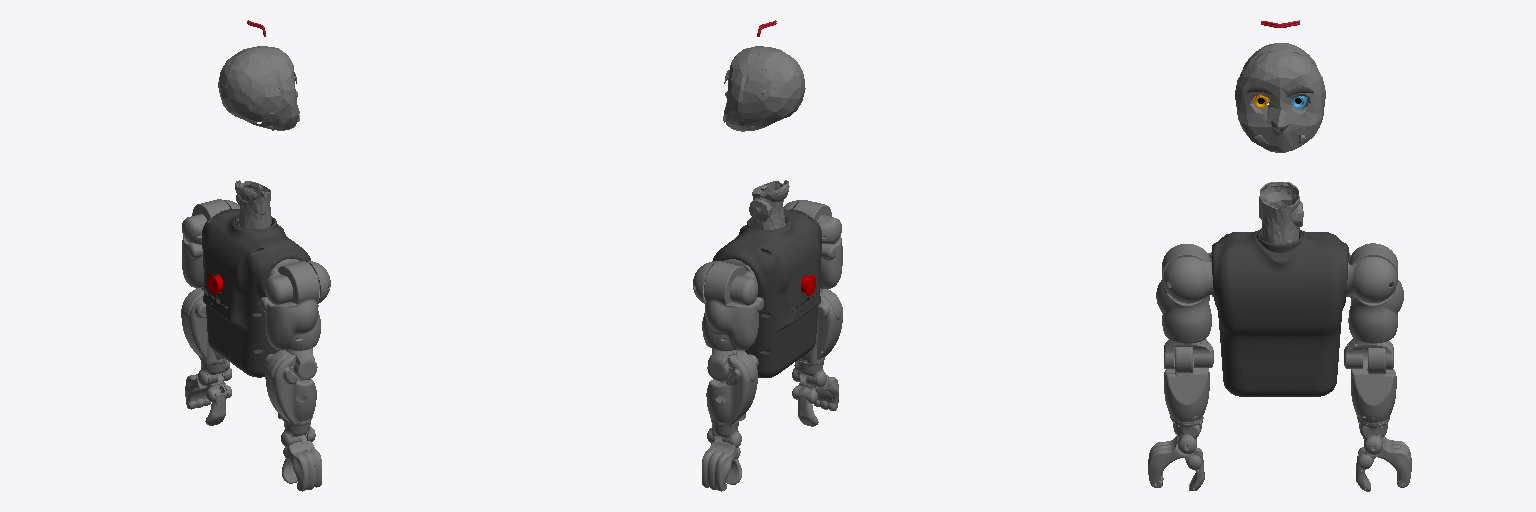
--- What the picture shows (computed from the rendered views, not written in the file) ---
Views: 3 orthographic renders of the robot side by side, from view 1: azimuth 30°, elevation 25°; view 2: azimuth 150°, elevation 25°; view 3: azimuth 270°, elevation 25°.
Model bandit with 26 links and 25 joints (20 revolute, 5 fixed), rooted at torso_link, posed every joint at zero.
Visible links, largest first — view 1: torso_link, head_tilt_link, right_shoulder_link, right_forearm_link, left_forearm_link, head_pan_link, right_hand_link, left_shoulder_link, right_shoulder_mounting_link, left_hand_link, left_shoulder_mounting_link, right_bicep_link (+3 smaller); view 2: torso_link, head_tilt_link, left_shoulder_link, left_forearm_link, right_forearm_link, head_pan_link, right_shoulder_link, left_hand_link, left_shoulder_mounting_link, right_hand_link, right_shoulder_mounting_link, right_wrist_link (+3 smaller); view 3: torso_link, head_tilt_link, right_shoulder_link, left_shoulder_link, left_forearm_link, right_forearm_link, head_pan_link, right_shoulder_mounting_link, left_shoulder_mounting_link, right_hand_link, left_hand_link, right_bicep_link (+3 smaller).
Link boxes in pixels (x1,y1,x2,y2): torso_link: (202, 209, 310, 377); head_tilt_link: (218, 46, 299, 130); right_shoulder_link: (259, 261, 320, 350); right_forearm_link: (265, 350, 316, 423); left_forearm_link: (181, 288, 225, 363); head_pan_link: (235, 180, 271, 228); right_hand_link: (283, 436, 321, 491); left_shoulder_link: (182, 199, 229, 287); right_shoulder_mounting_link: (265, 259, 330, 304); left_hand_link: (185, 373, 231, 409); left_shoulder_mounting_link: (182, 200, 239, 244); right_bicep_link: (286, 348, 317, 379); torso_link: (712, 209, 821, 377); head_tilt_link: (723, 46, 805, 131); left_shoulder_link: (702, 261, 763, 350); left_forearm_link: (706, 350, 758, 425); right_forearm_link: (798, 289, 842, 364); head_pan_link: (749, 180, 789, 229); right_shoulder_link: (794, 200, 842, 288); left_hand_link: (702, 431, 740, 491); left_shoulder_mounting_link: (693, 259, 757, 305); right_hand_link: (792, 375, 838, 410); right_shoulder_mounting_link: (783, 200, 841, 243); right_wrist_link: (792, 359, 826, 386); torso_link: (1212, 229, 1348, 396); head_tilt_link: (1235, 43, 1325, 152); right_shoulder_link: (1156, 244, 1211, 343); left_shoulder_link: (1348, 243, 1403, 343); left_forearm_link: (1351, 348, 1396, 424); right_forearm_link: (1164, 339, 1209, 423); head_pan_link: (1259, 182, 1303, 243); right_shoulder_mounting_link: (1163, 252, 1213, 303); left_shoulder_mounting_link: (1346, 253, 1397, 303); right_hand_link: (1148, 436, 1201, 487); left_hand_link: (1358, 436, 1411, 487); right_bicep_link: (1164, 339, 1213, 368).
Bounding box of the posed robot: 0.1883 × 0.4538 × 0.8942 m (x, y, z).
Meshes: 24 distinct files referenced, 26 mesh visuals loaded (24 binary STL).

URDF robot description (bandit):
<?xml version="1.0" ?>
<!-- =================================================================================== -->
<!-- |    This document was autogenerated by xacro from [local-path]/interaction/groovy_workspace/stacks/usc-interaction-software/bandit/bandit_urdf/urdf/bandit_defs.urdf.xacro | -->
<!-- |    EDITING THIS FILE BY HAND IS NOT RECOMMENDED                                 | -->
<!-- =================================================================================== -->
<robot name="bandit" xmlns:controller="http://playerstage.sourceforge.net/gazebo/xmlschema/#controller" xmlns:interface="http://playerstage.sourceforge.net/gazebo/xmlschema/#interface" xmlns:sensor="http://playerstage.sourceforge.net/gazebo/xmlschema/#sensor" xmlns:xacro="http://ros.org/wiki/xacro">
  <!-- uncomment the below line for the bandit_shirt materials -->
  <!--  <include filename="$(find bandit_urdf)/defs/shirt_materials.xacro"/>-->
  <!-- use the below line for the regular bandit materials -->
  <material name="Red">
    <color rgba="0.8 0.0 0.0 1.0"/>
  </material>
  <material name="Blue">
    <color rgba="0.0 0.0 0.8 1.0"/>
  </material>
  <material name="Green">
    <color rgba="0.0 0.8 0.0 1.0"/>
  </material>
  <material name="Yellow">
    <color rgba="0.75 0.75 0.0 1.0"/>
  </material>
  <material name="Black">
    <color rgba="0 0 0 1.0"/>
  </material>
  <material name="White">
    <color rgba="1.0 1.0 1.0 1.0"/>
  </material>
  <material name="Head">
    <color rgba="0.5 0.5 0.5 1.0"/>
  </material>
  <material name="Eyebrows">
    <color rgba="0.35 0.35 0.35 1.0"/>
  </material>
  <material name="Pupil">
    <color rgba="0 0 0 1"/>
  </material>
  <material name="Lips">
    <color rgba="0.737 0.118 0.193 1.0"/>
  </material>
  <material name="Neck">
    <color rgba="0.5 0.5 0.5 1.0"/>
  </material>
  <material name="Torso">
    <color rgba="0.3 0.3 0.3 1.0"/>
  </material>
  <material name="Arms">
    <color rgba="0.5 0.5 0.5 1.0"/>
  </material>
  <material name="Wrist">
    <color rgba="0.5 0.5 0.5 1.0"/>
  </material>
  <material name="Hands">
    <color rgba="0.5 0.5 0.5 1.0"/>
  </material>
  <material name="SweaterRed">
    <color rgba="0.45 0.0 0.0 1.0"/>
  </material>
  <joint name="pupil_left_joint" type="fixed">
    <origin rpy="0 0 0" xyz="0.0012 -0.0048 -0.032"/>
    <parent link="eye_left_camera_link"/>
    <child link="pupil_left_link"/>
  </joint>
  <link name="pupil_left_link">
    <inertial>
      <mass value="0.01"/>
      <origin xyz="0 0 0"/>
      <inertia ixx="1" ixy="0" ixz="0" iyy="1" iyz="0" izz="1"/>
    </inertial>
    <visual name="pupil_visual">
      <origin rpy="0 0 0" xyz="0 0 0"/>
      <geometry name="pupil_left_geom">
        <mesh filename="package://bandit_urdf/meshes/bandit_mesh/middle_eye.stl"/>
      </geometry>
      <material name="Pupil">
        <color rgba="0 0 0 1"/>
      </material>
    </visual>
    <collision>
      <origin rpy="0 0 0" xyz="0 0 0"/>
      <geometry>
        <box size="0 0 0"/>
      </geometry>
    </collision>
  </link>
  <joint name="pupil_right_joint" type="fixed">
    <origin rpy="0 0 0" xyz="0.0012 -0.0046 -0.032"/>
    <parent link="eye_right_camera_link"/>
    <child link="pupil_right_link"/>
  </joint>
  <link name="pupil_right_link">
    <inertial>
      <mass value="0.01"/>
      <origin xyz="0 0 0"/>
      <inertia ixx="1" ixy="0" ixz="0" iyy="1" iyz="0" izz="1"/>
    </inertial>
    <visual name="pupil_visual">
      <origin rpy="0 0 0" xyz="0 0 0"/>
      <geometry name="pupil_left_geom">
        <mesh filename="package://bandit_urdf/meshes/bandit_mesh/middle_eye.stl"/>
      </geometry>
      <material name="Pupil">
        <color rgba="0 0 0 1"/>
      </material>
    </visual>
    <collision>
      <origin rpy="0 0 0" xyz="0 0 0"/>
      <geometry>
        <box size="0 0 0"/>
      </geometry>
    </collision>
  </link>
  <!-- use the below line for gazebo includes -->
  <!--<include filename="$(find bandit_urdf)/urdf/gazebo.urdf.xacro"/>-->
  <!-- use the below line for pr2 includes -->
  <!--<xacro:pr2_base_v0 name="base"/>-->
  <link name="torso_link">
    <inertial>
      <mass value="0.01"/>
      <origin xyz="0 0 0"/>
      <inertia ixx="1" ixy="0" ixz="0" iyy="1" iyz="0" izz="1"/>
    </inertial>
    <visual name="torso_visual">
      <material name="Torso"/>
      <origin rpy="1.57079632679 0 1.57079632679" xyz="0 0 0.0"/>
      <geometry name="torso_geom">
        <mesh filename="package://bandit_urdf/meshes/bandit_mesh/body_small.stl"/>
      </geometry>
    </visual>
    <collision>
      <origin rpy="0 0 0" xyz="0 0 -0.067"/>
      <geometry>
        <box size="0.152 0.228 0.282"/>
      </geometry>
    </collision>
  </link>
  <link name="stop_link">
    <inertial>
      <mass value="0.01"/>
      <origin xyz="0 0 0"/>
      <inertia ixx="1" ixy="0" ixz="0" iyy="1" iyz="0" izz="1"/>
    </inertial>
    <visual name="base_visual">
      <origin rpy="0 1.57079632679 3.14159265359" xyz="0 0 0"/>
      <geometry name="pioneer_geom">
        <mesh filename="package://bandit_urdf/meshes/bandit_mesh/stop_switch_small.STL"/>
      </geometry>
      <material name="Red"/>
    </visual>
    <collision>
      <origin rpy="0 0 0" xyz="0 0 0"/>
      <geometry>
        <box size="0 0 0"/>
      </geometry>
    </collision>
  </link>
  <joint name="stop_joint" type="fixed">
    <origin rpy="0 0 0" xyz="-0.08 0 -0.04"/>
    <parent link="torso_link"/>
    <child link="stop_link"/>
  </joint>
  <joint name="head_pan_joint" type="revolute">
    <axis xyz="0 0 1"/>
    <origin xyz="0 0 0.1105"/>
    <parent link="torso_link"/>
    <child link="head_pan_link"/>
    <limit effort="2.645" lower="-1.57079633" upper="1.57079633" velocity="6"/>
    <safety_controller k_position="100" k_velocity="1.5" soft_lower_limit="-1.42079633" soft_upper_limit="1.42079633"/>
    <calibration reference_position="0.0"/>
    <dynamics damping="1.0"/>
  </joint>
  <link name="head_pan_link">
    <inertial>
      <origin rpy="183.928 0 -90" xyz="-0.05 0 -0.101"/>
      <mass value="0.01"/>
      <inertia ixx="0.00482611007" ixy="-0.000144683999" ixz="0.000110076136" iyy="0.005218991412" iyz="-0.000314239509" izz="0.008618784925"/>
    </inertial>
    <visual name="head_pan_visual">
      <origin rpy="1.5696 0 -1.5696" xyz="0 0 0"/>
      <geometry name="head_pan_visual_geom">
        <mesh filename="package://bandit_urdf/meshes/bandit_mesh/neck_smallest.stl"/>
      </geometry>
      <material name="Neck"/>
    </visual>
    <collision name="head_pan_collision">
      <origin rpy="1.5696 0 1.5696" xyz="0 0 0"/>
      <geometry name="head_pan_visual_geom">
        <box size="0 0 0"/>
      </geometry>
    </collision>
  </link>
  <joint name="head_tilt_joint" type="revolute">
    <axis xyz="0 -1 0.0375"/>
    <limit effort="2.645" lower="-0.261799388" upper="0.261799388" velocity="6"/>
    <safety_controller k_position="100" k_velocity="1.5" soft_lower_limit="-1.42079633" soft_upper_limit="1.42079633"/>
    <calibration reference_position="0.0"/>
    <dynamics damping="1.0"/>
    <origin rpy="0 0 0" xyz="0 0 0.18135"/>
    <parent link="head_pan_link"/>
    <child link="head_tilt_link"/>
  </joint>
  <link name="head_tilt_link">
    <inertial>
      <mass value="0.01"/>
      <origin rpy="1.5696 0 1.5696" xyz="0 0 0"/>
      <inertia ixx="0.00482611007" ixy="-0.000144683999" ixz="0.000110076136" iyy="0.005218991412" iyz="-0.000314239509" izz="0.008618784925"/>
    </inertial>
    <visual name="head_tilt_visual">
      <origin rpy="1.5696 0 1.5696" xyz="-.02 0 .01"/>
      <geometry name="head_tilt_visual_geom">
        <mesh filename="package://bandit_urdf/meshes/bandit_mesh/head_smallest.stl"/>
      </geometry>
      <material name="Head"/>
    </visual>
    <collision name="head_tilt_collision">
      <origin rpy="0 0 0 " xyz="0.008 0 0.055"/>
      <geometry name="head_tilt_visual_geom">
        <box size="0.147 0.156 0.16"/>
      </geometry>
    </collision>
  </link>
  <joint name="mouth_top_joint" type="revolute">
    <axis xyz="0 -1 0"/>
    <limit effort="2.645" lower="-0.261799388" upper="0.261799388" velocity="6"/>
    <safety_controller k_position="100" k_velocity="1.5" soft_lower_limit="-1.42079633" soft_upper_limit="1.42079633"/>
    <calibration reference_position="0.0"/>
    <dynamics damping="1.0"/>
    <origin rpy="0 0 0" xyz="0 0 0.18135"/>
    <parent link="head_tilt_link"/>
    <child link="mouth_top_link"/>
  </joint>
  <link name="mouth_top_link">
    <inertial>
      <mass value="0.01"/>
      <origin rpy="0 0 1.5696" xyz="0 0 0"/>
      <inertia ixx="0.00482611007" ixy="-0.000144683999" ixz="0.000110076136" iyy="0.005218991412" iyz="-0.000314239509" izz="0.008618784925"/>
    </inertial>
    <visual name="mouth_top_visual">
      <origin rpy="0 0 -1.5696" xyz="0 0 .002"/>
      <geometry name="mouth_top_visual_geom">
        <mesh filename="package://bandit_urdf/meshes/bandit_mesh/top_lip_small.STL"/>
      </geometry>
      <material name="Lips"/>
    </visual>
    <collision name="mouth_top_collision">
      <origin rpy="0 0 0 " xyz="0 0 0"/>
      <geometry name="mouth_top_visual_geom">
        <box size="0 0 0"/>
      </geometry>
    </collision>
  </link>
  <joint name="mouth_bottom_joint" type="revolute">
    <axis xyz="0 -1 0"/>
    <limit effort="2.645" lower="-0.261799388" upper="0.261799388" velocity="6"/>
    <safety_controller k_position="100" k_velocity="1.5" soft_lower_limit="-1.42079633" soft_upper_limit="1.42079633"/>
    <calibration reference_position="0.0"/>
    <dynamics damping="1.0"/>
    <origin rpy="0 0 0" xyz="0 0 0.18135"/>
    <parent link="head_tilt_link"/>
    <child link="mouth_bottom_link"/>
  </joint>
  <link name="mouth_bottom_link">
    <inertial>
      <mass value="0.01"/>
      <origin rpy="1.5696 0 1.5696" xyz="0 0 0"/>
      <inertia ixx="0.00482611007" ixy="-0.000144683999" ixz="0.000110076136" iyy="0.005218991412" iyz="-0.000314239509" izz="0.008618784925"/>
    </inertial>
    <visual name="mouth_bottom_visual">
      <origin rpy="0 0 -1.5696" xyz="0 0 -0.002"/>
      <geometry name="mouth_bottom_visual_geom">
        <mesh filename="package://bandit_urdf/meshes/bandit_mesh/bottom_lip_small.STL"/>
      </geometry>
      <material name="Lips"/>
    </visual>
    <collision name="mouth_bottom_collision">
      <origin rpy="0 0 0 " xyz="0 0 0"/>
      <geometry name="mouth_bottom_visual_geom">
        <box size="0 0 0"/>
      </geometry>
    </collision>
  </link>
  <joint name="eye_right_camera_joint" type="fixed">
    <origin rpy="-1.57079632679 -0.3 -1.57079632679" xyz="0.05 -0.0320 .060"/>
    <parent link="head_tilt_link"/>
    <child link="eye_right_camera_link"/>
  </joint>
  <link name="eye_right_camera_link">
    <inertial>
      <mass value="0.01"/>
      <origin rpy="1.5696 0 1.5696" xyz="0 0 0"/>
      <inertia ixx="0.00482611007" ixy="-0.000144683999" ixz="0.000110076136" iyy="0.005218991412" iyz="-0.000314239509" izz="0.008618784925"/>
    </inertial>
    <visual name="eye_right_camera_visual">
      <origin rpy="1.5696 0 -1.5696" xyz="0.035 0 0"/>
      <geometry name="eye_right_camera_visual_geom">
        <mesh filename="package://bandit_urdf/meshes/bandit_mesh/camera_board.stl"/>
      </geometry>
      <material name="texture">
        <texture filename="package://bandit_urdf/meshes/bandit_mesh/gradients/reflect1.jpg"/>
      </material>
    </visual>
    <collision name="eye_right_camera_collision">
      <origin rpy="0 0 0 " xyz="0 0 0"/>
      <geometry name="eye_right_camera_visual_geom">
        <box size="0 0 0"/>
      </geometry>
    </collision>
  </link>
  <joint name="eye_left_camera_joint" type="fixed">
    <origin rpy="-1.57079632679 0 -1.57079632679" xyz="0.05 0.0320 .060"/>
    <parent link="head_tilt_link"/>
    <child link="eye_left_camera_link"/>
  </joint>
  <link name="eye_left_camera_link">
    <inertial>
      <mass value="0.01"/>
      <origin rpy="1.5696 0 1.5696" xyz="0 0 0"/>
      <inertia ixx="0.00482611007" ixy="-0.000144683999" ixz="0.000110076136" iyy="0.005218991412" iyz="-0.000314239509" izz="0.008618784925"/>
    </inertial>
    <visual name="eye_left_camera_visual">
      <origin rpy="1.5696 0 -1.5696" xyz="0.035 0 0"/>
      <geometry name="eye_left_camera_visual_geom">
        <mesh filename="package://bandit_urdf/meshes/bandit_mesh/camera_board.stl"/>
      </geometry>
      <material name="texture">
        <texture filename="package://bandit_urdf/meshes/bandit_mesh/gradients/reflect1.jpg"/>
      </material>
    </visual>
    <collision name="eye_left_camera_collision">
      <origin rpy="0 0 0 " xyz="0 0 0"/>
      <geometry name="eye_left_camera_visual_geom">
        <box size="0 0 0"/>
      </geometry>
    </collision>
  </link>
  <joint name="head_left_brow_joint" type="revolute">
    <axis xyz="0 1 0"/>
    <limit effort="2.645" lower="-0.261799388" upper="0.261799388" velocity="6"/>
    <safety_controller k_position="100" k_velocity="1.5" soft_lower_limit="-1.42079633" soft_upper_limit="1.42079633"/>
    <calibration reference_position="0.0"/>
    <dynamics damping="1.0"/>
    <origin rpy="-1.57079632679 -1.57079632679 0" xyz="0.06 0.0470 .085"/>
    <parent link="head_tilt_link"/>
    <child link="head_left_brow_link"/>
  </joint>
  <link name="head_left_brow_link">
    <inertial>
      <mass value="0.01"/>
      <origin rpy="1.5696 0 1.5696" xyz="0 0 0"/>
      <inertia ixx="0.00482611007" ixy="-0.000144683999" ixz="0.000110076136" iyy="0.005218991412" iyz="-0.000314239509" izz="0.008618784925"/>
    </inertial>
    <visual name="head_left_brow_visual">
      <origin rpy="0 0 -1.5696" xyz="0 0 0"/>
      <geometry name="head_left_brow_visual_geom">
        <mesh filename="package://bandit_urdf/meshes/bandit_mesh/eyebrow_left_small.stl"/>
      </geometry>
      <material name="Eyebrows"/>
    </visual>
    <collision name="head_left_brow_collision">
      <origin rpy="0 0 0 " xyz="0 0 0"/>
      <geometry name="head_left_brow_visual_geom">
        <box size="0 0 0"/>
      </geometry>
    </collision>
  </link>
  <joint name="head_right_brow_joint" type="revolute">
    <axis xyz="0 -1 0"/>
    <limit effort="2.645" lower="-0.261799388" upper="0.261799388" velocity="6"/>
    <safety_controller k_position="100" k_velocity="1.5" soft_lower_limit="-1.42079633" soft_upper_limit="1.42079633"/>
    <calibration reference_position="0.0"/>
    <dynamics damping="1.0"/>
    <origin rpy="-1.57079632679 -1.57079632679 0" xyz="0.06 -0.0470 .085"/>
    <parent link="head_tilt_link"/>
    <child link="head_right_brow_link"/>
  </joint>
  <link name="head_right_brow_link">
    <inertial>
      <mass value="0.01"/>
      <origin rpy="1.5696 0 1.5696" xyz="0 0 0"/>
      <inertia ixx="0.00482611007" ixy="-0.000144683999" ixz="0.000110076136" iyy="0.005218991412" iyz="-0.000314239509" izz="0.008618784925"/>
    </inertial>
    <visual name="head_right_brow_visual">
      <origin rpy="0 0 -1.5696" xyz="0 0 0"/>
      <geometry name="head_right_brow_visual_geom">
        <mesh filename="package://bandit_urdf/meshes/bandit_mesh/eyebrow_right_small.stl"/>
      </geometry>
      <material name="Eyebrows"/>
    </visual>
    <collision name="head_right_brow_collision">
      <origin rpy="0 0 0 " xyz="0 0 0"/>
      <geometry name="head_right_brow_visual_geom">
        <box size="0 0 0"/>
      </geometry>
    </collision>
  </link>
  <joint name="left_torso_shoulder_mounting_joint" type="revolute">
    <axis xyz="0 -1 0"/>
    <origin rpy="0 0 0" xyz="0 0.16 0"/>
    <parent link="torso_link"/>
    <child link="left_shoulder_mounting_link"/>
    <limit effort="30" lower="-3.14159265359" upper="3.14159265359" velocity="6"/>
    <dynamics damping="1.0"/>
    <calibration reference_position="0.0"/>
    <safety_controller k_position="100" k_velocity="10" soft_lower_limit="-3.14159265359" soft_upper_limit="3.14159265359"/>
  </joint>
  <link name="left_shoulder_mounting_link">
    <inertial>
      <origin rpy="3.14159265359 0 0" xyz="-0.035 0.131 0.168"/>
      <mass value="0.01"/>
      <inertia ixx="0.866179142480" ixy="-0.06086507933" ixz="-0.12118061183" iyy="0.87421714893" iyz="-0.05886609911" izz="0.27353821674"/>
    </inertial>
    <visual name="left_shoulder_mounting_link_visual">
      <origin rpy="1.5696 0 1.5696" xyz="0 0 0"/>
      <geometry name="left_shoulder_mounting_link_geom">
        <mesh filename="package://bandit_urdf/meshes/bandit_mesh/shoulder_cover_left_small.stl"/>
      </geometry>
      <material name="Arms"/>
    </visual>
    <collision name="left_shoulder_mounting_link_collision">
      <origin rpy="1.5696 0 1.5696" xyz="0 0 -0.05"/>
      <geometry name="left_shoulder_mounting_link_geom">
        <box size="0.105 0.175 0.081"/>
      </geometry>
    </collision>
  </link>
  <joint name="left_shoulder_mounting_shoulder_joint" type="revolute">
    <origin xyz="0 0.0 0"/>
    <axis xyz="1 0 0"/>
    <parent link="left_shoulder_mounting_link"/>
    <child link="left_shoulder_link"/>
    <limit effort="30" lower="-0.34906585" upper="3.14159265359" velocity="6"/>
    <dynamics damping="1.0"/>
    <calibration reference_position="0.0"/>
    <safety_controller k_position="100" k_velocity="10" soft_lower_limit="-0.34906585" soft_upper_limit="3.14159265359"/>
  </joint>
  <link name="left_shoulder_link">
    <inertial>
      <origin rpy="0 3.1392 0" xyz="-0.030 -0. -0"/>
      <mass value="0.01"/>
      <inertia ixx="0.866179142480" ixy="-0.06086507933" ixz="-0.12118061183" iyy="0.87421714893" iyz="-0.05886609911" izz="0.27353821674"/>
    </inertial>
    <visual name="left_shoulder_link_visual">
      <origin rpy="0 1.57079632679 0" xyz="0 -0.0 0"/>
      <geometry name="left_shoulder_link_geom">
        <mesh filename="package://bandit_urdf/meshes/bandit_mesh/bicep_cover_left_small.stl"/>
      </geometry>
      <material name="Arms"/>
    </visual>
    <collision name="left_shoulder_link_collision">
      <origin rpy="0 0 0" xyz="0 0 -0.04"/>
      <geometry name="left_shoulder_link_geom">
        <box size="0 0 0"/>
      </geometry>
    </collision>
  </link>
  <joint name="left_shoulder_bicep_joint" type="revolute">
    <origin xyz="0 0 -0.161"/>
    <axis xyz="0 0 1"/>
    <parent link="left_shoulder_link"/>
    <child link="left_bicep_link"/>
    <limit effort="30" lower="-1.57079633" upper="1.57079633" velocity="6"/>
    <dynamics damping="1.0"/>
    <calibration reference_position="0.0"/>
    <safety_controller k_position="100" k_velocity="10" soft_lower_limit="-1.57079633" soft_upper_limit="1.57079633"/>
  </joint>
  <link name="left_bicep_link">
    <inertial>
      <origin rpy="0 0 1.5696" xyz="-0.0 0.0 -0.288"/>
      <mass value="0.01"/>
      <inertia ixx="0.866179142480" ixy="-0.06086507933" ixz="-0.12118061183" iyy="0.87421714893" iyz="-0.05886609911" izz="0.27353821674"/>
    </inertial>
    <visual name="left_bicep_link_visual">
      <origin rpy="0 -1.57079632679 1.57079632679" xyz="0 0 0.0"/>
      <geometry name="left_bicep_link_geom">
        <mesh filename="package://bandit_urdf/meshes/bandit_mesh/elbow_cover_left_small.stl"/>
      </geometry>
      <material name="Arms"/>
    </visual>
    <collision name="left_bicep_link_collision">
      <origin rpy="0 0 0" xyz="0 0 0"/>
      <geometry name="left_bicep_link_geom">
        <box size="0 0 0"/>
      </geometry>
    </collision>
  </link>
  <joint name="left_bicep_forearm_joint" type="revolute">
    <origin xyz="0 0 0"/>
    <axis xyz="0 -1.0 0"/>
    <parent link="left_bicep_link"/>
    <child link="left_forearm_link"/>
    <limit effort="30" lower="0.0" upper="1.91986218" velocity="6"/>
    <dynamics damping="1.0"/>
    <calibration reference_position="0.0"/>
    <safety_controller k_position="100" k_velocity="10" soft_lower_limit="0.0" soft_upper_limit="1.91986218"/>
  </joint>
  <link name="left_forearm_link">
    <inertial>
      <origin rpy="0 3.1392 3.1392" xyz="-0.028 0.163 -0.372"/>
      <mass value="0.01"/>
      <inertia ixx="0.866179142480" ixy="-0.06086507933" ixz="-0.12118061183" iyy="0.87421714893" iyz="-0.05886609911" izz="0.27353821674"/>
    </inertial>
    <visual name="left_forearm_link_visual">
      <origin rpy="0 1.57079632679 1.57079632679" xyz="0 0 0"/>
      <geometry name="left_forearm_link_geom">
        <mesh filename="package://bandit_urdf/meshes/bandit_mesh/forearm_cover_left_small.stl"/>
      </geometry>
      <material name="Arms"/>
    </visual>
    <collision name="left_forearm_link_collision">
      <origin rpy="0 0 0" xyz="0 0 -0.075"/>
      <geometry name="left_forearm_link_geom">
        <box size="0 0 0"/>
      </geometry>
    </collision>
  </link>
  <joint name="left_forearm_wrist_joint" type="revolute">
    <origin rpy="0 0 -1.57079632679" xyz="0 0 -0.145"/>
    <axis xyz="0 0 1"/>
    <parent link="left_forearm_link"/>
    <child link="left_wrist_link"/>
    <limit effort="30" lower="-1.57079632679" upper="1.57079632679" velocity="6"/>
    <dynamics damping="1.0"/>
    <calibration reference_position="0.0"/>
    <safety_controller k_position="100" k_velocity="10" soft_lower_limit="-1.57079632679" soft_upper_limit="1.57079632679"/>
  </joint>
  <link name="left_wrist_link">
    <inertial>
      <origin rpy="0 0 0" xyz="-0.026 0.163 -0.434"/>
      <mass value="0.01"/>
      <inertia ixx="0.866179142480" ixy="-0.06086507933" ixz="-0.12118061183" iyy="0.87421714893" iyz="-0.05886609911" izz="0.27353821674"/>
    </inertial>
    <visual name="left_wrist_link_visual">
      <origin rpy="1.57079632679 0 1.57079632679" xyz="0 0 -0.01"/>
      <geometry name="left_wrist_link_geom">
        <mesh filename="package://bandit_urdf/meshes/bandit_mesh/wrist_cover_left_small.stl"/>
      </geometry>
      <material name="Wrist"/>
    </visual>
    <collision name="">
      <origin rpy="0 0 0" xyz="0 0 -0.01"/>
      <geometry name="left_wrist_link_geom">
        <box size="0 0 0"/>
      </geometry>
    </collision>
  </link>
  <joint name="left_wrist_hand_joint" type="revolute">
    <origin xyz="0 0 -0.01"/>
    <axis xyz="0 -1 0"/>
    <parent link="left_wrist_link"/>
    <child link="left_hand_link"/>
    <limit effort="30" lower="-1.57079632679" upper="1.57079632679" velocity="6"/>
    <dynamics damping="1.0"/>
    <calibration reference_position="0.0"/>
    <safety_controller k_position="100" k_velocity="10" soft_lower_limit="-1.57079632679" soft_upper_limit="1.57079632679"/>
  </joint>
  <link name="left_hand_link">
    <inertial>
      <origin rpy="0.99408 0 1.5696" xyz="-0.015 0.163 -0.486"/>
      <mass value="0.01"/>
      <inertia ixx="0.866179142480" ixy="-0.06086507933" ixz="-0.12118061183" iyy="0.87421714893" iyz="-0.05886609911" izz="0.27353821674"/>
    </inertial>
    <visual name="left_hand_link_visual">
      <origin rpy="1.57079632679 0 0" xyz="0 0 -.00"/>
      <geometry name="left_hand_link_geom">
        <mesh filename="package://bandit_urdf/meshes/bandit_mesh/left_hand_small.stl"/>
      </geometry>
      <material name="Hands"/>
    </visual>
    <collision name="left_hand_link_collision">
      <origin rpy="0 0 0" xyz="-0.05 0 -0.06"/>
      <geometry name="left_hand_link_geom">
        <box size="0.03 0.06 0.080"/>
      </geometry>
    </collision>
  </link>
  <joint name="left_hand_thumb_joint" type="revolute">
    <origin xyz="0.014 0 -.033"/>
    <axis xyz="0 1 0"/>
    <parent link="left_hand_link"/>
    <child link="left_thumb_link"/>
    <limit effort="30" lower="-0.714601836603" upper="0" velocity="6"/>
    <dynamics damping="1.0"/>
    <calibration reference_position="0.0"/>
    <safety_controller k_position="100" k_velocity="10" soft_lower_limit="-0.564601836603" soft_upper_limit="-0.15"/>
  </joint>
  <link name="left_thumb_link">
    <inertial>
      <origin rpy="1.5696 0 1.5696" xyz="0.037 0.163 -0.484"/>
      <mass value="0.01"/>
      <inertia ixx="0.866179142480" ixy="-0.06086507933" ixz="-0.12118061183" iyy="0.87421714893" iyz="-0.05886609911" izz="0.27353821674"/>
    </inertial>
    <visual name="left_thumb_link_visual">
      <origin rpy="1.57079632679 -1.57079632679 0" xyz="0 0 0"/>
      <geometry name="left_thumb_link_geom">
        <mesh filename="package://bandit_urdf/meshes/bandit_mesh/left_thumb_small.stl"/>
      </geometry>
      <material name="Hands"/>
    </visual>
    <collision name="left_thumb_link_collision">
      <origin rpy="0 0 0" xyz="0 0 -.015"/>
      <geometry name="left_thumb_link_geom">
        <box size="0.030 0.025 0.06"/>
      </geometry>
    </collision>
  </link>
  <joint name="right_torso_shoulder_mounting_joint" type="revolute">
    <axis xyz="0 -1 0"/>
    <origin rpy="0 0 0" xyz="0 -0.16 0"/>
    <parent link="torso_link"/>
    <child link="right_shoulder_mounting_link"/>
    <limit effort="30" lower="-3.14159265359" upper="3.14159265359" velocity="6"/>
    <dynamics damping="1.0"/>
    <calibration reference_position="0.0"/>
    <safety_controller k_position="100" k_velocity="10" soft_lower_limit="-3.14159265359" soft_upper_limit="3.14159265359"/>
  </joint>
  <link name="right_shoulder_mounting_link">
    <inertial>
      <origin rpy="3.14159265359 0 0" xyz="-0.035 0.131 -0.168"/>
      <mass value="0.01"/>
      <inertia ixx="0.866179142480" ixy="-0.06086507933" ixz="-0.12118061183" iyy="0.87421714893" iyz="-0.05886609911" izz="0.27353821674"/>
    </inertial>
    <visual name="right_shoulder_mounting_link_visual">
      <origin rpy="1.5696 0 1.5696" xyz="0 0 0"/>
      <geometry name="right_shoulder_mounting_link_geom">
        <mesh filename="package://bandit_urdf/meshes/bandit_mesh/shoulder_cover_right_small.stl"/>
      </geometry>
      <material name="Arms"/>
    </visual>
    <collision name="right_shoulder_mounting_link_collision">
      <origin rpy="1.5696 0 1.5696" xyz="0 0 -0.05"/>
      <geometry name="right_shoulder_mounting_link_geom">
        <box size="0.105 0.175 0.081"/>
      </geometry>
    </collision>
  </link>
  <joint name="right_shoulder_mounting_shoulder_joint" type="revolute">
    <origin xyz="0 -0.0 0"/>
    <axis xyz="-1 0 0"/>
    <parent link="right_shoulder_mounting_link"/>
    <child link="right_shoulder_link"/>
    <limit effort="30" lower="-0.34906585" upper="3.14159265359" velocity="6"/>
    <dynamics damping="1.0"/>
    <calibration reference_position="0.0"/>
    <safety_controller k_position="100" k_velocity="10" soft_lower_limit="-0.34906585" soft_upper_limit="3.14159265359"/>
  </joint>
  <link name="right_shoulder_link">
    <inertial>
      <origin rpy="0 3.1392 0" xyz="-0.030 -0. -0"/>
      <mass value="0.01"/>
      <inertia ixx="0.866179142480" ixy="-0.06086507933" ixz="-0.12118061183" iyy="0.87421714893" iyz="-0.05886609911" izz="0.27353821674"/>
    </inertial>
    <visual name="right_shoulder_link_visual">
      <origin rpy="0 1.57079632679 0" xyz="0 0.0 0"/>
      <geometry name="right_shoulder_link_geom">
        <mesh filename="package://bandit_urdf/meshes/bandit_mesh/bicep_cover_right_small.stl"/>
      </geometry>
      <material name="Arms"/>
    </visual>
    <collision name="right_shoulder_link_collision">
      <origin rpy="0 0 0" xyz="0 0 -0.04"/>
      <geometry name="right_shoulder_link_geom">
        <box size="0 0 0"/>
      </geometry>
    </collision>
  </link>
  <joint name="right_shoulder_bicep_joint" type="revolute">
    <origin xyz="0 0 -0.161"/>
    <axis xyz="0 0 -1"/>
    <parent link="right_shoulder_link"/>
    <child link="right_bicep_link"/>
    <limit effort="30" lower="-1.57079633" upper="1.57079633" velocity="6"/>
    <dynamics damping="1.0"/>
    <calibration reference_position="0.0"/>
    <safety_controller k_position="100" k_velocity="10" soft_lower_limit="-1.57079633" soft_upper_limit="1.57079633"/>
  </joint>
  <link name="right_bicep_link">
    <inertial>
      <origin rpy="0 0 1.5696" xyz="-0.0 0.0 -0.288"/>
      <mass value="0.01"/>
      <inertia ixx="0.866179142480" ixy="-0.06086507933" ixz="-0.12118061183" iyy="0.87421714893" iyz="-0.05886609911" izz="0.27353821674"/>
    </inertial>
    <visual name="right_bicep_link_visual">
      <origin rpy="0 -1.57079632679 1.57079632679" xyz="0 0 0.0"/>
      <geometry name="right_bicep_link_geom">
        <mesh filename="package://bandit_urdf/meshes/bandit_mesh/elbow_cover_right_small.stl"/>
      </geometry>
      <material name="Arms"/>
    </visual>
    <collision name="right_bicep_link_collision">
      <origin rpy="0 0 0" xyz="0 0 0"/>
      <geometry name="right_bicep_link_geom">
        <box size="0 0 0"/>
      </geometry>
    </collision>
  </link>
  <joint name="right_bicep_forearm_joint" type="revolute">
    <origin xyz="0 0 0"/>
    <axis xyz="0 -1.0 0"/>
    <parent link="right_bicep_link"/>
    <child link="right_forearm_link"/>
    <limit effort="30" lower="0.0" upper="1.91986218" velocity="6"/>
    <dynamics damping="1.0"/>
    <calibration reference_position="0.0"/>
    <safety_controller k_position="100" k_velocity="10" soft_lower_limit="0.0" soft_upper_limit="1.91986218"/>
  </joint>
  <link name="right_forearm_link">
    <inertial>
      <origin rpy="0 3.1392 3.1392" xyz="-0.028 0.163 -0.372"/>
      <mass value="0.01"/>
      <inertia ixx="0.866179142480" ixy="-0.06086507933" ixz="-0.12118061183" iyy="0.87421714893" iyz="-0.05886609911" izz="0.27353821674"/>
    </inertial>
    <visual name="right_forearm_link_visual">
      <origin rpy="0 1.57079632679 1.57079632679" xyz="0 0 0"/>
      <geometry name="right_forearm_link_geom">
        <mesh filename="package://bandit_urdf/meshes/bandit_mesh/forearm_cover_right_small.stl"/>
      </geometry>
      <material name="Arms"/>
    </visual>
    <collision name="right_forearm_link_collision">
      <origin rpy="0 0 0" xyz="0 0 -0.075"/>
      <geometry name="right_forearm_link_geom">
        <box size="0 0 0"/>
      </geometry>
    </collision>
  </link>
  <joint name="right_forearm_wrist_joint" type="revolute">
    <origin rpy="0 0 1.57079632679" xyz="0 0 -0.145"/>
    <axis xyz="0 0 -1"/>
    <parent link="right_forearm_link"/>
    <child link="right_wrist_link"/>
    <limit effort="30" lower="-1.57079632679" upper="1.57079632679" velocity="6"/>
    <dynamics damping="1.0"/>
    <calibration reference_position="0.0"/>
    <safety_controller k_position="100" k_velocity="10" soft_lower_limit="-1.57079632679" soft_upper_limit="1.57079632679"/>
  </joint>
  <link name="right_wrist_link">
    <inertial>
      <origin rpy="0 0 0" xyz="-0.026 0.163 -0.434"/>
      <mass value="0.01"/>
      <inertia ixx="0.866179142480" ixy="-0.06086507933" ixz="-0.12118061183" iyy="0.87421714893" iyz="-0.05886609911" izz="0.27353821674"/>
    </inertial>
    <visual name="right_wrist_link_visual">
      <origin rpy="1.57079632679 0 1.57079632679" xyz="0 0 -0.01"/>
      <geometry name="right_wrist_link_geom">
        <mesh filename="package://bandit_urdf/meshes/bandit_mesh/wrist_cover_right_small.stl"/>
      </geometry>
      <material name="Wrist"/>
    </visual>
    <collision name="">
      <origin rpy="0 0 0" xyz="0 0 -0.01"/>
      <geometry name="right_wrist_link_geom">
        <box size="0 0 0"/>
      </geometry>
    </collision>
  </link>
  <joint name="right_wrist_hand_joint" type="revolute">
    <origin xyz="0 0 -0.01"/>
    <axis xyz="0 -1 0"/>
    <parent link="right_wrist_link"/>
    <child link="right_hand_link"/>
    <limit effort="30" lower="-1.57079632679" upper="1.57079632679" velocity="6"/>
    <dynamics damping="1.0"/>
    <calibration reference_position="0.0"/>
    <safety_controller k_position="100" k_velocity="10" soft_lower_limit="-1.57079632679" soft_upper_limit="1.57079632679"/>
  </joint>
  <link name="right_hand_link">
    <inertial>
      <origin rpy="0.99408 0 1.5696" xyz="-0.015 0.163 -0.486"/>
      <mass value="0.01"/>
      <inertia ixx="0.866179142480" ixy="-0.06086507933" ixz="-0.12118061183" iyy="0.87421714893" iyz="-0.05886609911" izz="0.27353821674"/>
    </inertial>
    <visual name="right_hand_link_visual">
      <origin rpy="1.57079632679 0 0" xyz="0 0 -.00"/>
      <geometry name="right_hand_link_geom">
        <mesh filename="package://bandit_urdf/meshes/bandit_mesh/right_hand_small.stl"/>
      </geometry>
      <material name="Hands"/>
    </visual>
    <collision name="right_hand_link_collision">
      <origin rpy="0 0 0" xyz="-0.05 0 -0.06"/>
      <geometry name="right_hand_link_geom">
        <box size="0.03 0.06 0.080"/>
      </geometry>
    </collision>
  </link>
  <joint name="right_hand_thumb_joint" type="revolute">
    <origin xyz="0.014 0 -.033"/>
    <axis xyz="0 1 0"/>
    <parent link="right_hand_link"/>
    <child link="right_thumb_link"/>
    <limit effort="30" lower="-2.2853981634" upper="0" velocity="6"/>
    <dynamics damping="1.0"/>
    <calibration reference_position="0.0"/>
    <safety_controller k_position="100" k_velocity="10" soft_lower_limit="-2.1353981634" soft_upper_limit="-0.15"/>
  </joint>
  <link name="right_thumb_link">
    <inertial>
      <origin rpy="1.5696 0 1.5696" xyz="0.037 0.163 -0.484"/>
      <mass value="0.01"/>
      <inertia ixx="0.866179142480" ixy="-0.06086507933" ixz="-0.12118061183" iyy="0.87421714893" iyz="-0.05886609911" izz="0.27353821674"/>
    </inertial>
    <visual name="right_thumb_link_visual">
      <origin rpy="1.57079632679 -1.57079632679 0" xyz="0 0 0"/>
      <geometry name="right_thumb_link_geom">
        <mesh filename="package://bandit_urdf/meshes/bandit_mesh/right_thumb_small.stl"/>
      </geometry>
      <material name="Hands"/>
    </visual>
    <collision name="right_thumb_link_collision">
      <origin rpy="0 0 0" xyz="0 0 -.015"/>
      <geometry name="right_thumb_link_geom">
        <box size="0.030 0.025 0.06"/>
      </geometry>
    </collision>
  </link>
</robot>
